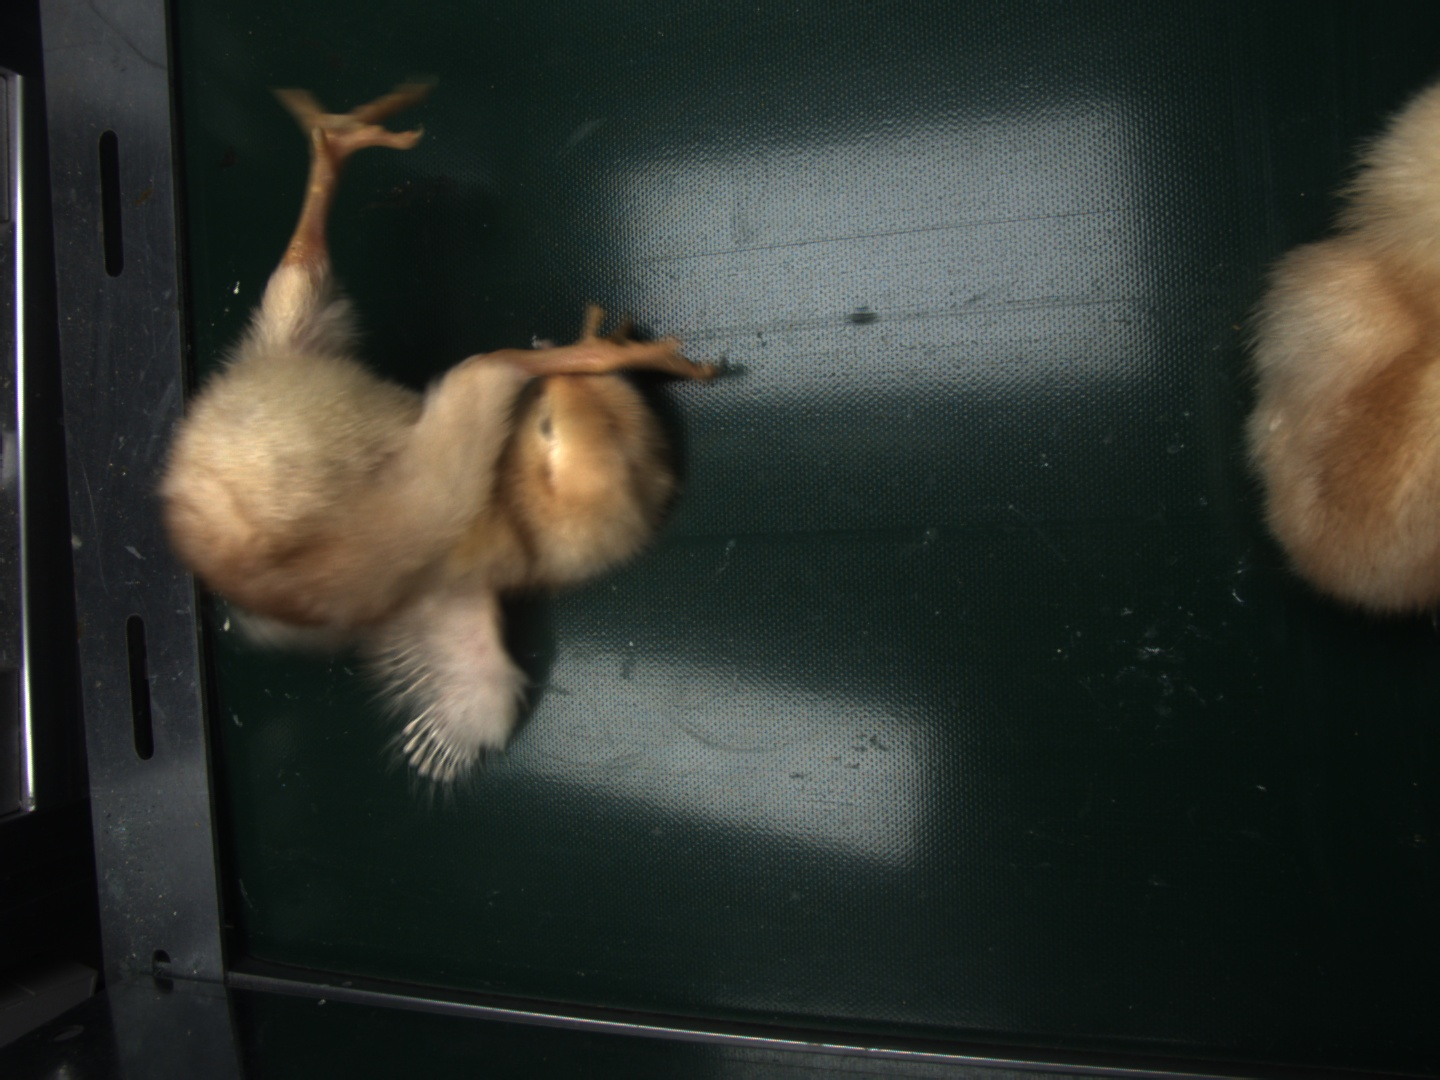female: (401, 712, 474, 784)
